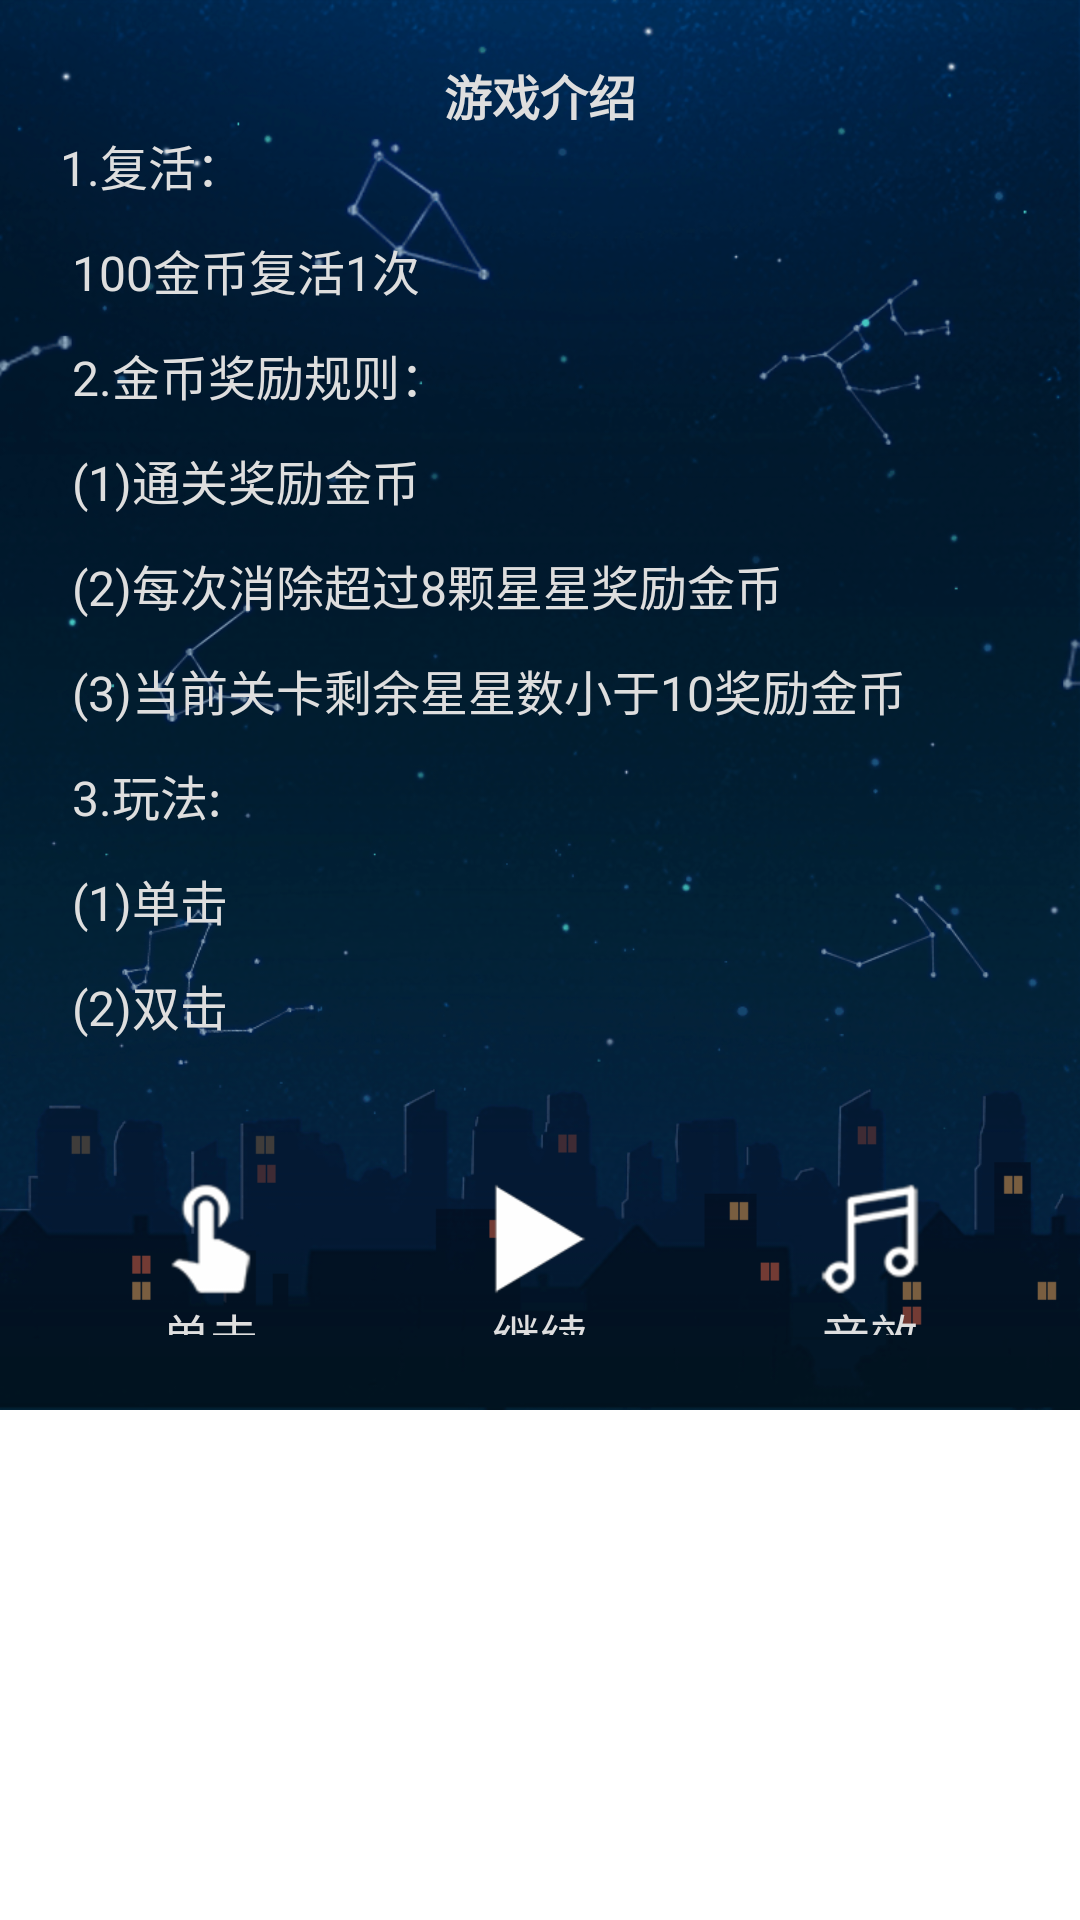

Locate icon controls on the screen. Image size 1080x1920, boxes as (x1, y1, x2, y2).
open voice: (821, 1184, 922, 1299)
